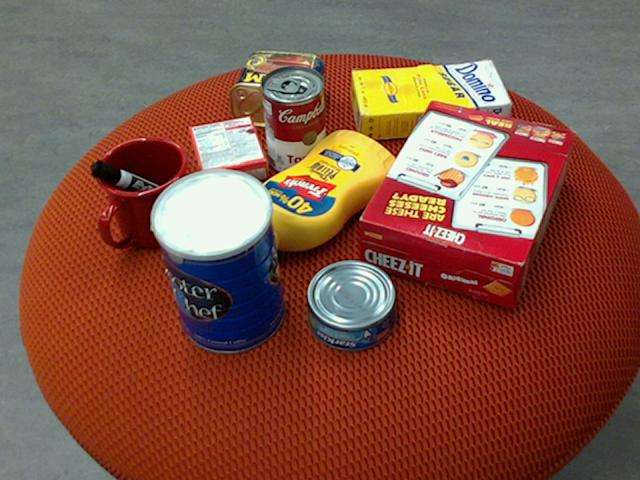cracker_box: (359, 99, 577, 307)
gelatin_box: (188, 114, 267, 191)
large_marker: (89, 160, 189, 213)
master_chef_can: (146, 169, 285, 354)
mug: (94, 136, 194, 248)
mustard_bottle: (235, 129, 400, 258)
potted_meat_can: (230, 51, 326, 129)
sugar_box: (350, 59, 513, 140)
tomato_soup_can: (261, 64, 326, 175)
tuna_fish_can: (307, 260, 398, 352)
